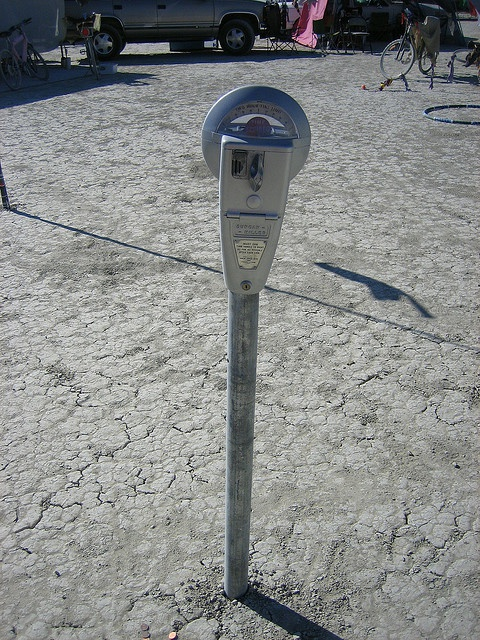non-vehicle: (375, 0, 442, 80), (0, 17, 51, 87), (66, 17, 104, 79)
